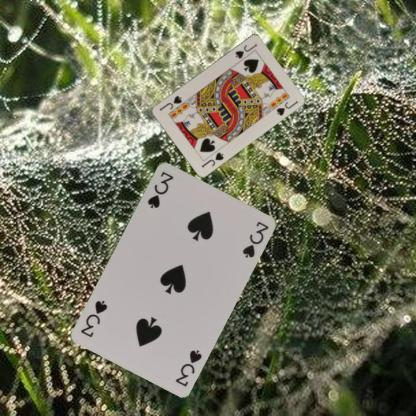3s: (172, 346, 204, 388), (145, 168, 175, 209)
Js: (232, 41, 258, 60), (199, 150, 225, 168)
